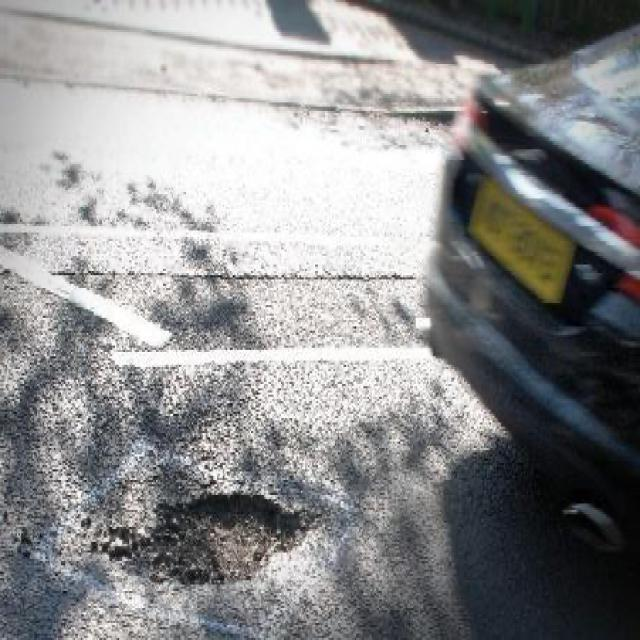pothole: (114, 491, 321, 592), (399, 109, 459, 135)
